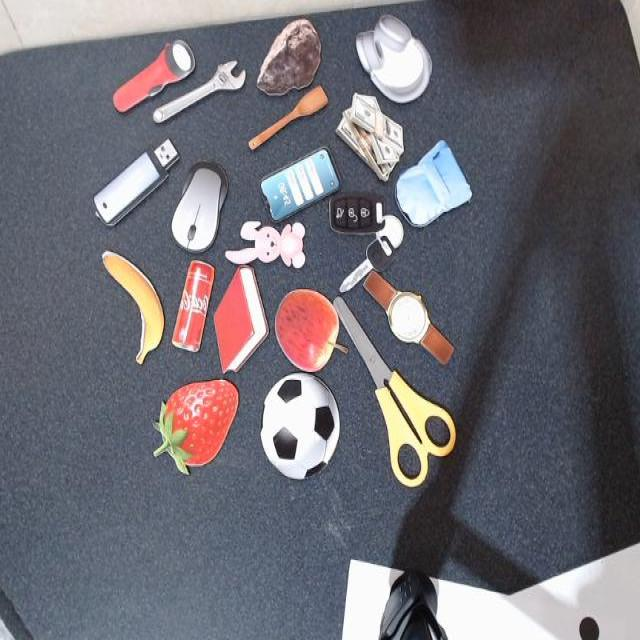Other Objects: (335, 282, 457, 488), (389, 134, 477, 247), (89, 130, 185, 233), (359, 266, 454, 364), (164, 149, 241, 265), (108, 30, 200, 125), (261, 375, 341, 479), (101, 251, 165, 364), (246, 80, 332, 160), (355, 14, 432, 103), (331, 195, 404, 285), (336, 93, 404, 181), (276, 290, 348, 371), (155, 60, 246, 124), (261, 148, 340, 221), (257, 18, 323, 96), (172, 260, 215, 351), (226, 221, 306, 268)
